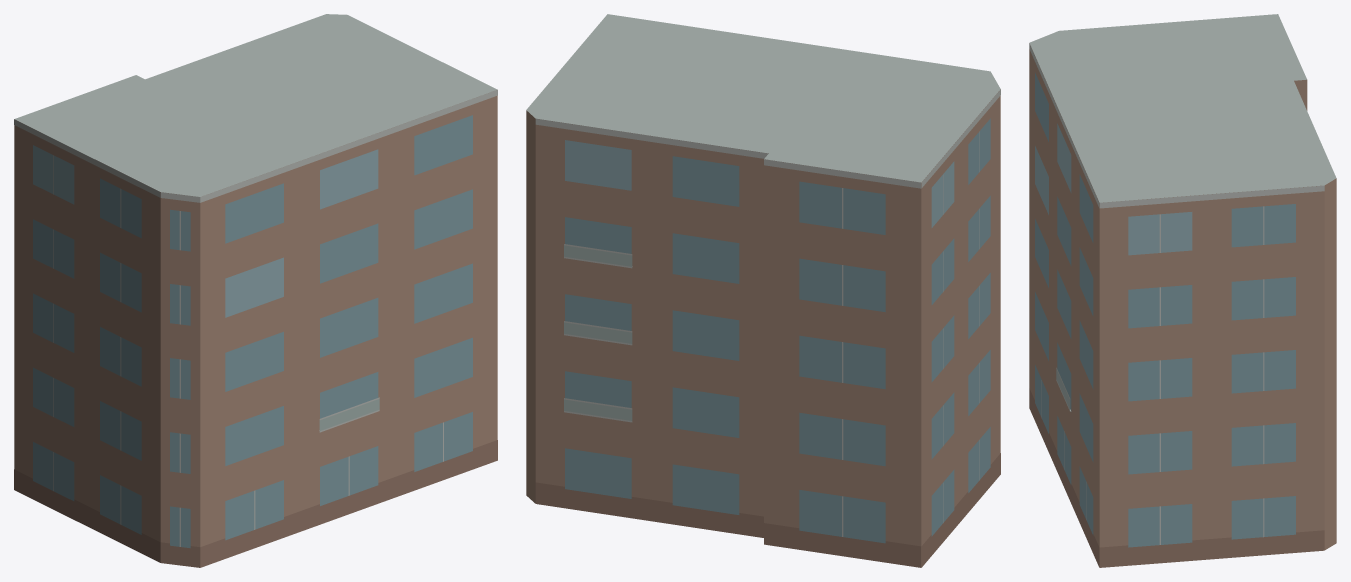
The model's file is survey-upis-32718084.glb.
3 views of the same model, side by side, from view 1: azimuth 30°, elevation 25°; view 2: azimuth 150°, elevation 25°; view 3: azimuth 270°, elevation 25° (orthographic). The views are drawn at different scales.
Parts seen in each view (by area): view 1: survey-upis-32718084.tmp; view 2: survey-upis-32718084.tmp; view 3: survey-upis-32718084.tmp.
Boxes of the visible parts, box(x1,y1,x2,y2) form: survey-upis-32718084.tmp: box(14, 14, 497, 567); survey-upis-32718084.tmp: box(526, 14, 1000, 567); survey-upis-32718084.tmp: box(1029, 14, 1336, 567).
Bounding box in the file's own units: 17.08 × 15.4 × 11.75.
